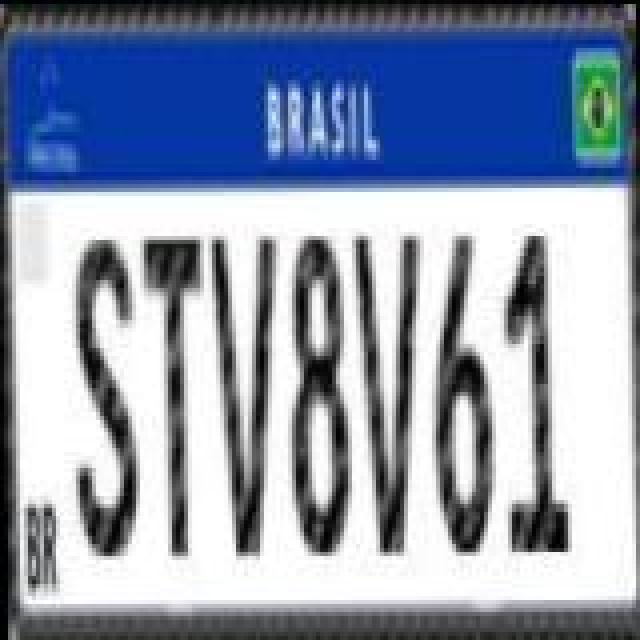1: (502, 224, 570, 560)
6: (430, 226, 498, 558)
8: (286, 230, 354, 558)
S: (74, 232, 142, 560)
T: (142, 230, 210, 562)
V: (208, 230, 280, 562), (352, 228, 424, 556)
